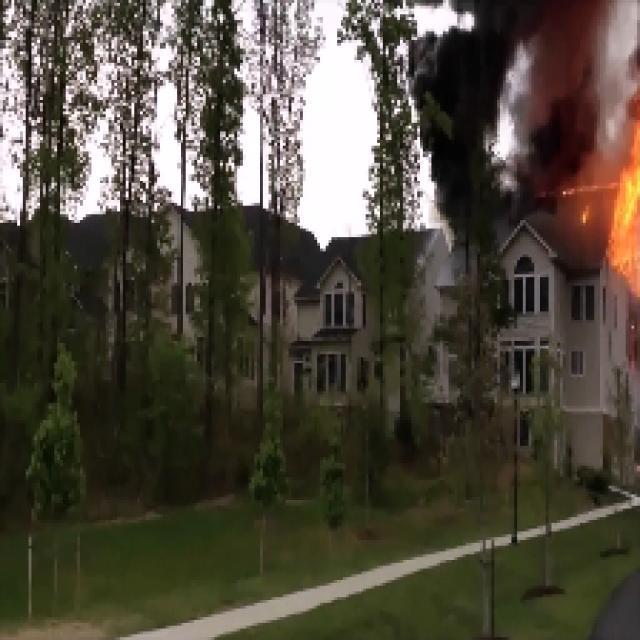Fire: (615, 133, 639, 277)
Smoke: (428, 0, 602, 191)
